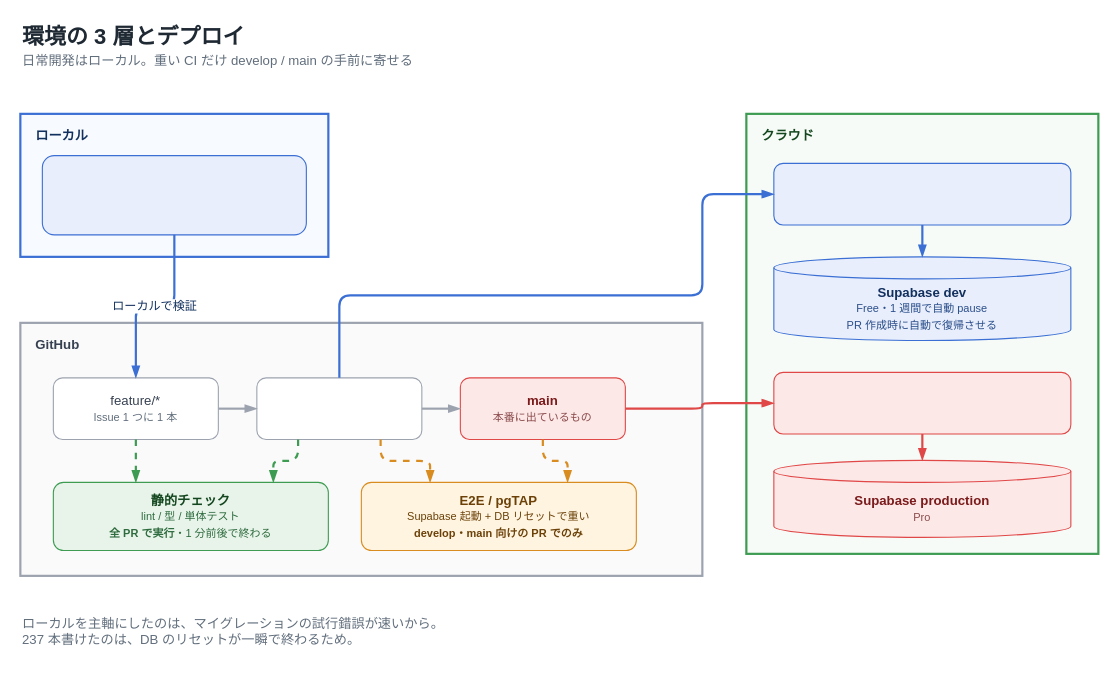
This 1118x682 diagram has some shape labels left out. Here are the shapes that lost their labels. From the top down, the centre of each, then its label:
At pixel 173 195: "Docker Supabase DB + 認証 + Storage + Functions 日常開発の主軸・リセットが一瞬".
At pixel 922 193: "プレビューデプロイ PR ごとに生成・実機確認の場所".
At pixel 339 408: "develop 統合先".
At pixel 922 402: "本番 Vercel".
